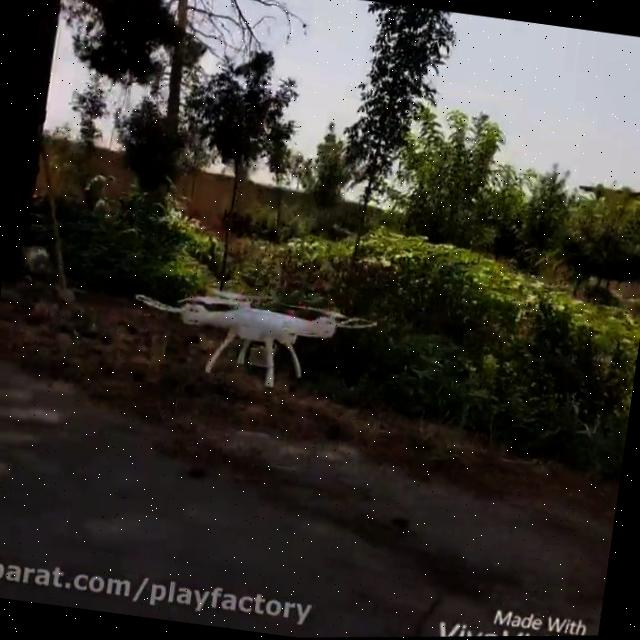drone: (125, 273, 382, 401)
